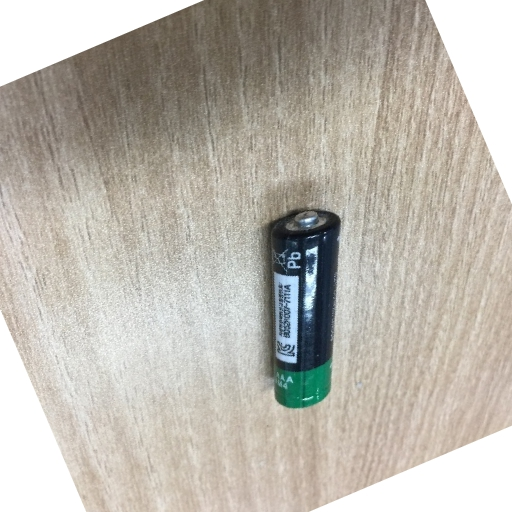Battery_0: (251, 188, 356, 420)
